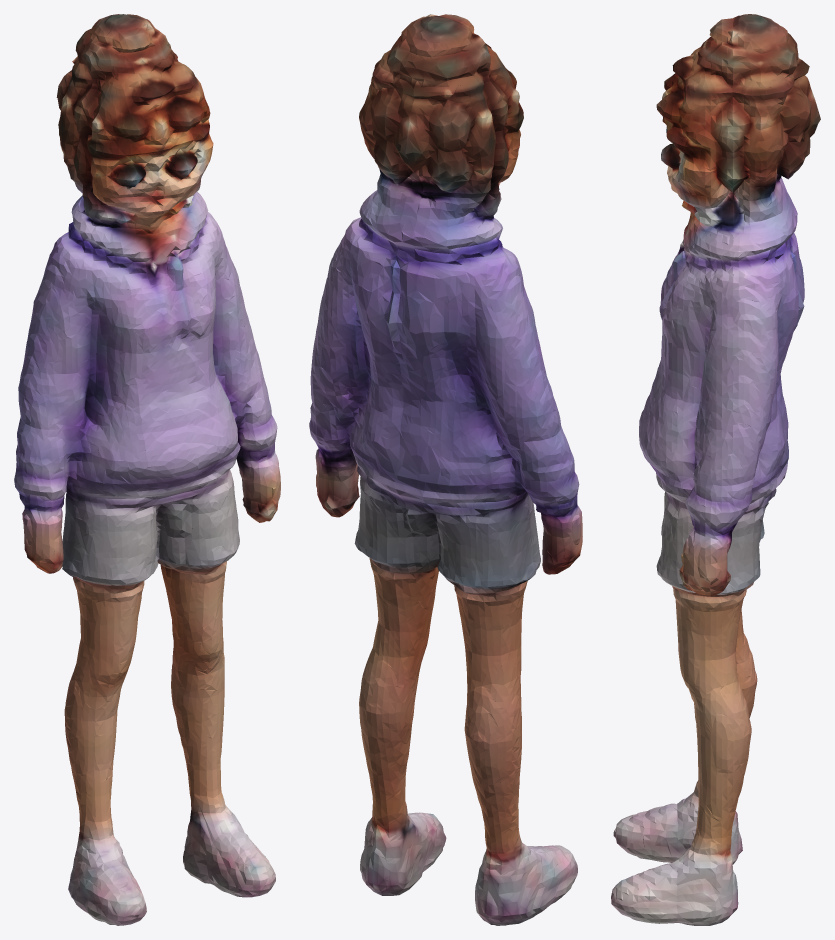
The model's file is hoodie.glb.
3 views of the same model, side by side, from view 1: azimuth 30°, elevation 25°; view 2: azimuth 150°, elevation 25°; view 3: azimuth 270°, elevation 25° (orthographic). The views are drawn at different scales.
Visible parts, largest first — view 1: geometry_0; view 2: geometry_0; view 3: geometry_0.
Boxes of the visible parts, bbox=[...] form: geometry_0: bbox=[14, 14, 280, 925]; geometry_0: bbox=[309, 14, 582, 925]; geometry_0: bbox=[611, 14, 820, 925].
Bounding box in the file's own units: 0.3056 × 1 × 0.2185.
Materials: 1 (1 with a texture image).
